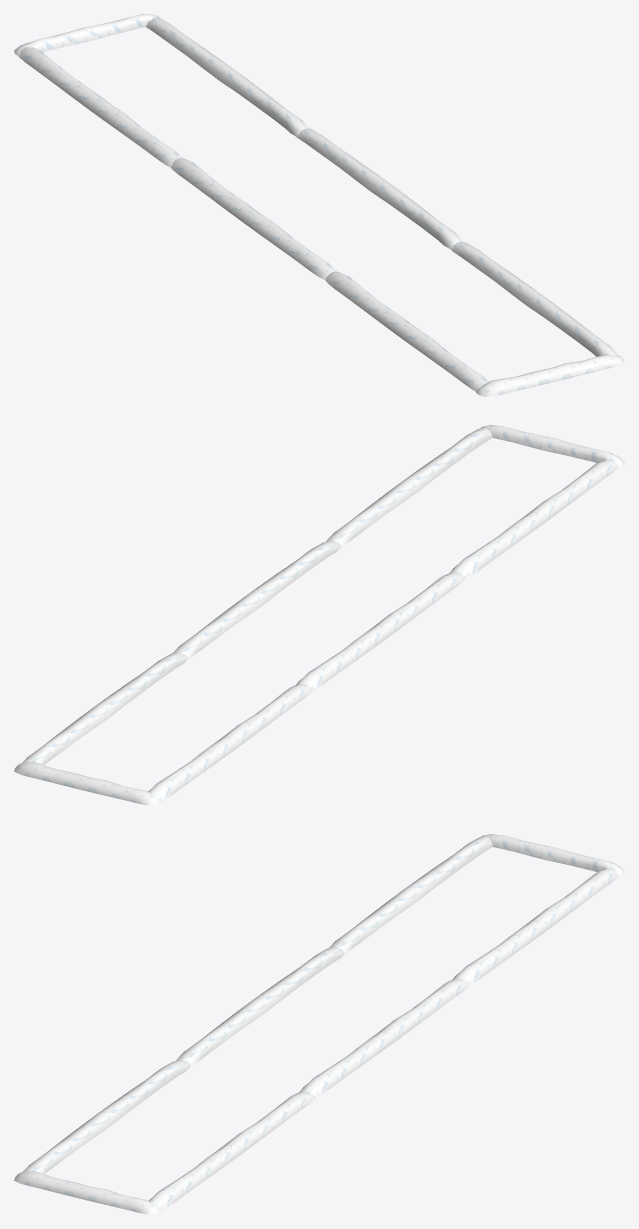
Rendered from snowbarrier.glb.
3 renders of one model, top to bottom at view 1: azimuth 30°, elevation 25°; view 2: azimuth 150°, elevation 25°; view 3: azimuth 330°, elevation 25°, orthographic.
Parts seen in each view (by area): view 1: snowbarrier; view 2: snowbarrier; view 3: snowbarrier.
Boxes of the visible parts, x1,y1,x2,y2 form: snowbarrier: (14,14,624,396); snowbarrier: (14,425,624,805); snowbarrier: (14,834,624,1214).
Size of what is drawn, in the model's own units: 14.09 by 0.8873 by 79.09.
1 material, 1 textured.
